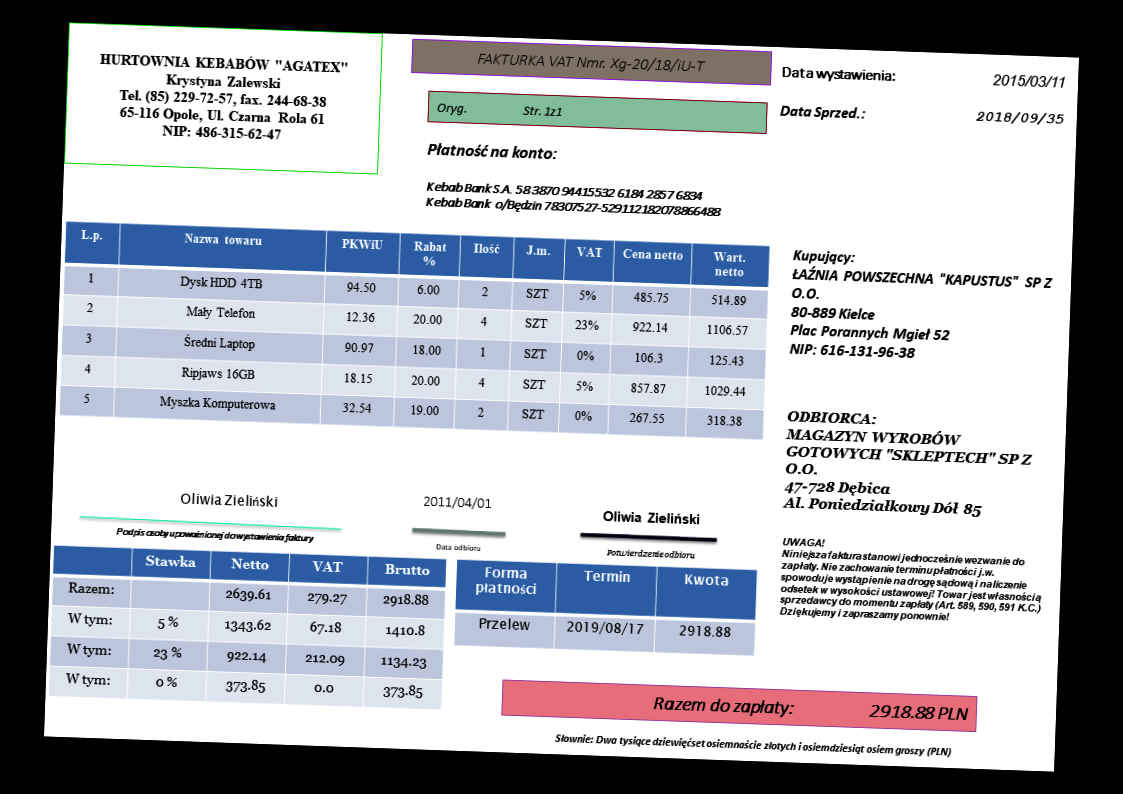Table: (57, 220, 772, 441), (47, 545, 447, 711), (452, 557, 758, 658)
TextBox: (786, 246, 1055, 367), (780, 407, 1036, 522), (93, 45, 352, 149), (778, 533, 1047, 627), (552, 727, 954, 761), (423, 177, 724, 220), (650, 691, 970, 725), (472, 49, 707, 75), (113, 524, 317, 547), (423, 140, 559, 164), (779, 62, 898, 88), (433, 98, 566, 121), (176, 488, 282, 511), (972, 107, 1066, 129), (599, 507, 702, 527), (778, 101, 868, 123), (603, 545, 698, 561), (991, 71, 1068, 90), (421, 493, 493, 513), (432, 541, 482, 553)
